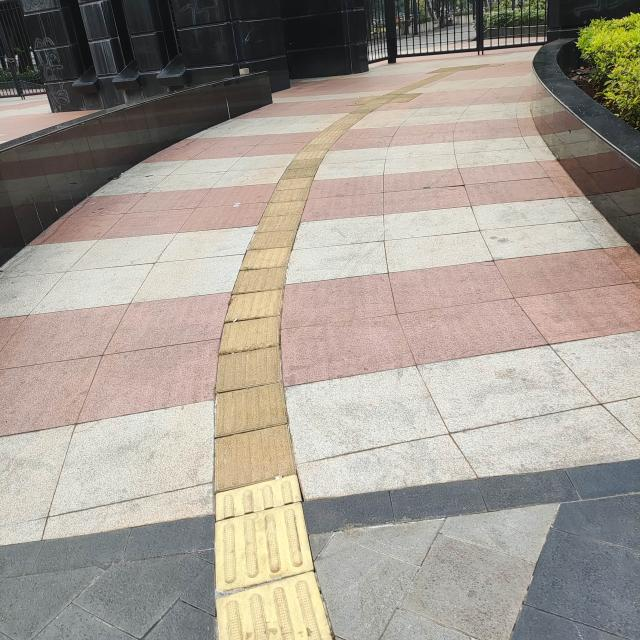lurus: (194, 207, 318, 640)
